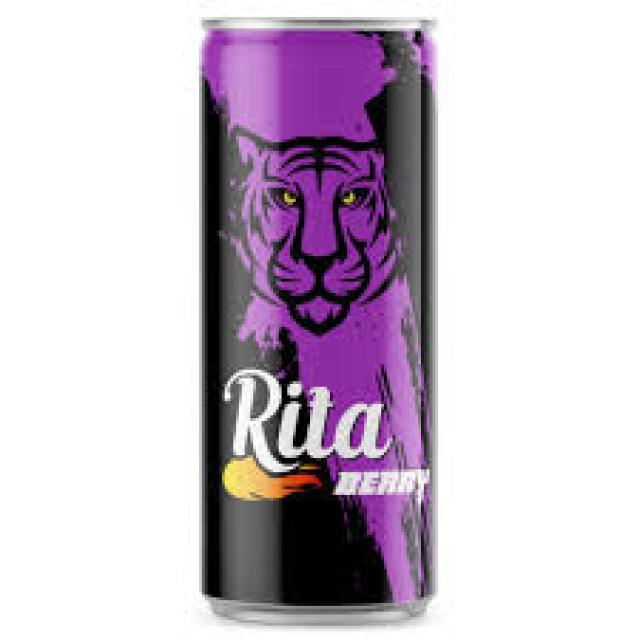Cans: (188, 3, 461, 634)
